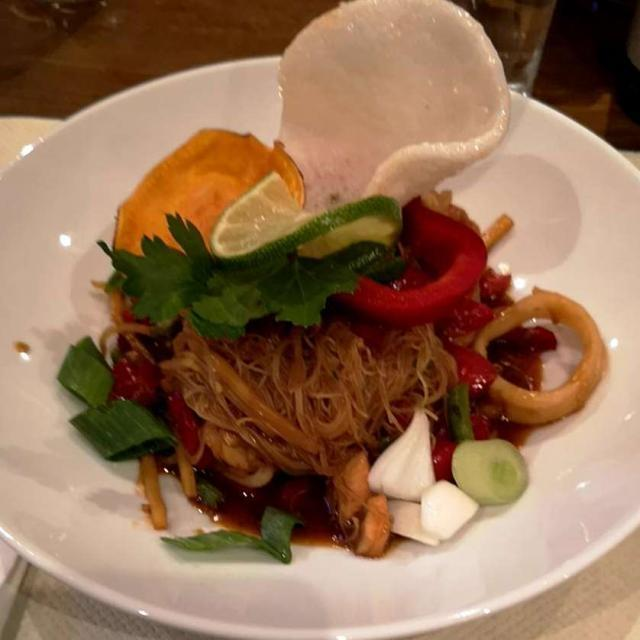curry-vegetarian: (73, 182, 588, 544)
